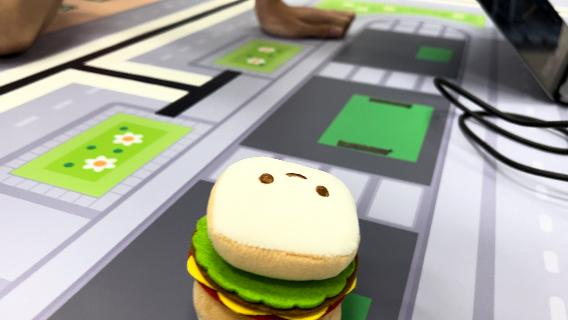sandwich: (185, 154, 363, 318)
